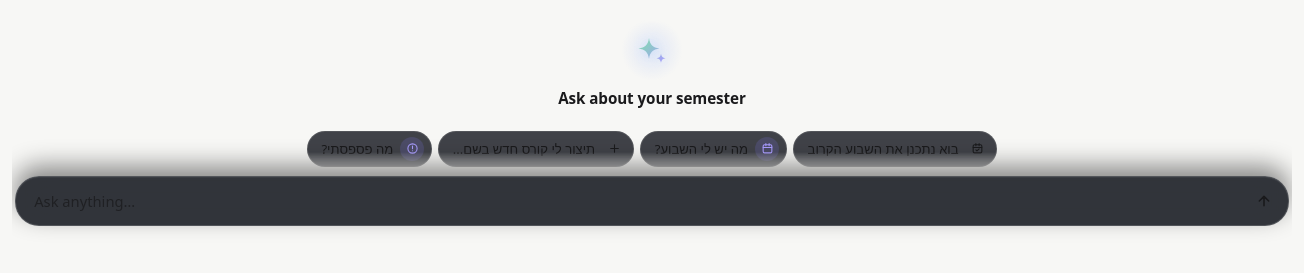
Scenario: AgentPanel › turns the reply's likely answers into buttons
Step 1. Click the button "בוא נתכנן את השבוע הקרוב" → [895, 149], box [793, 131, 997, 167]
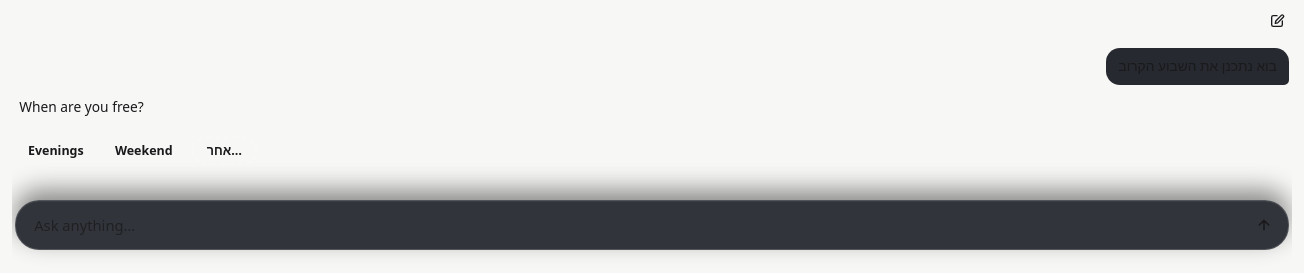
Result: the text "When are you free?" is shown at [19, 97, 144, 116]
Step 2. Click the button "Weekend" → [144, 151], box [102, 136, 185, 166]
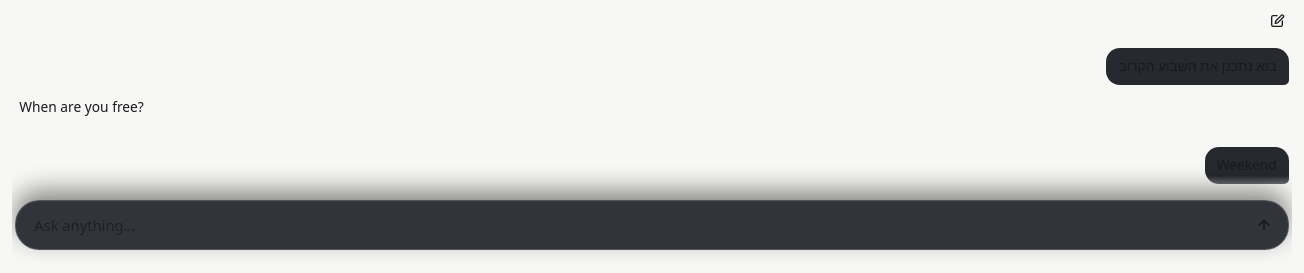
Result: the text "Weekend" is shown at [1205, 147, 1289, 184]
Result: the button "Evenings" is gone
